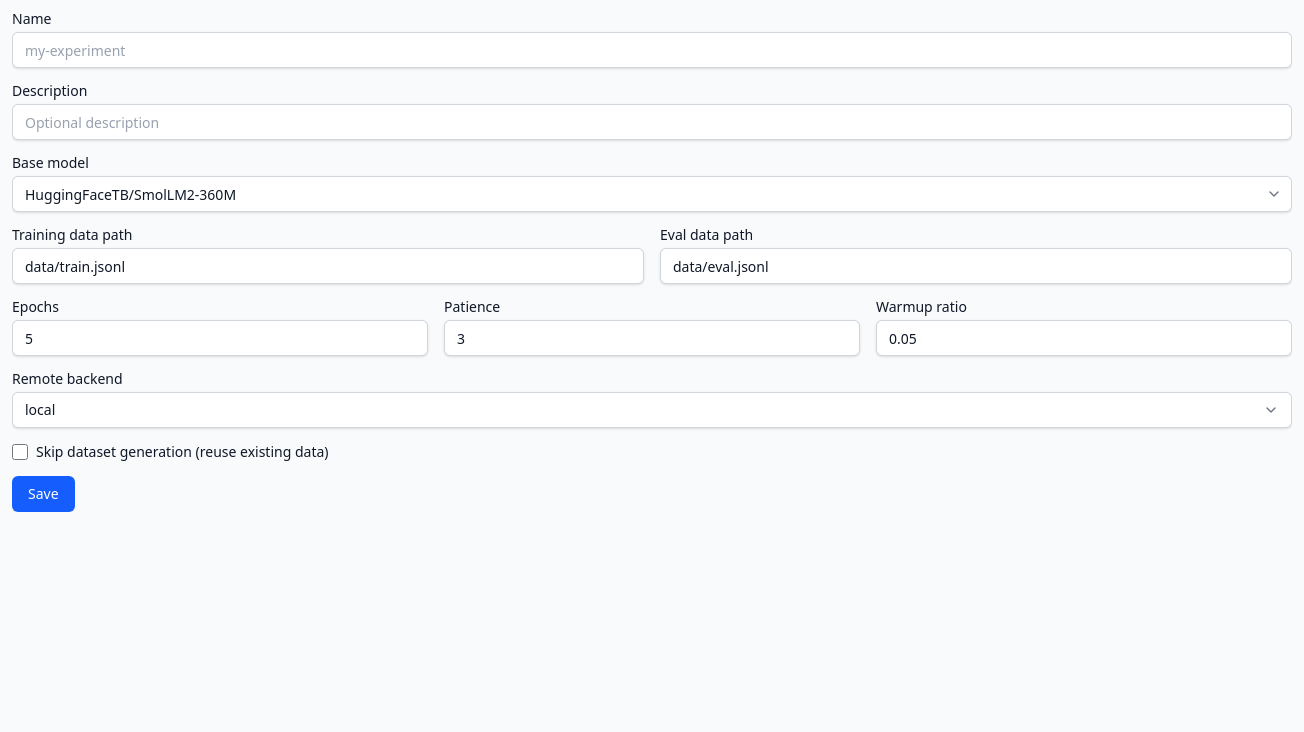
Test: ModelForm › shows validation error when name is empty
This screenshot has width=1304, height=732.
What coordinates should you click on to do the following:
click the button "Save"
I would click on:
 (43, 494)
Its box is [12, 476, 75, 512].
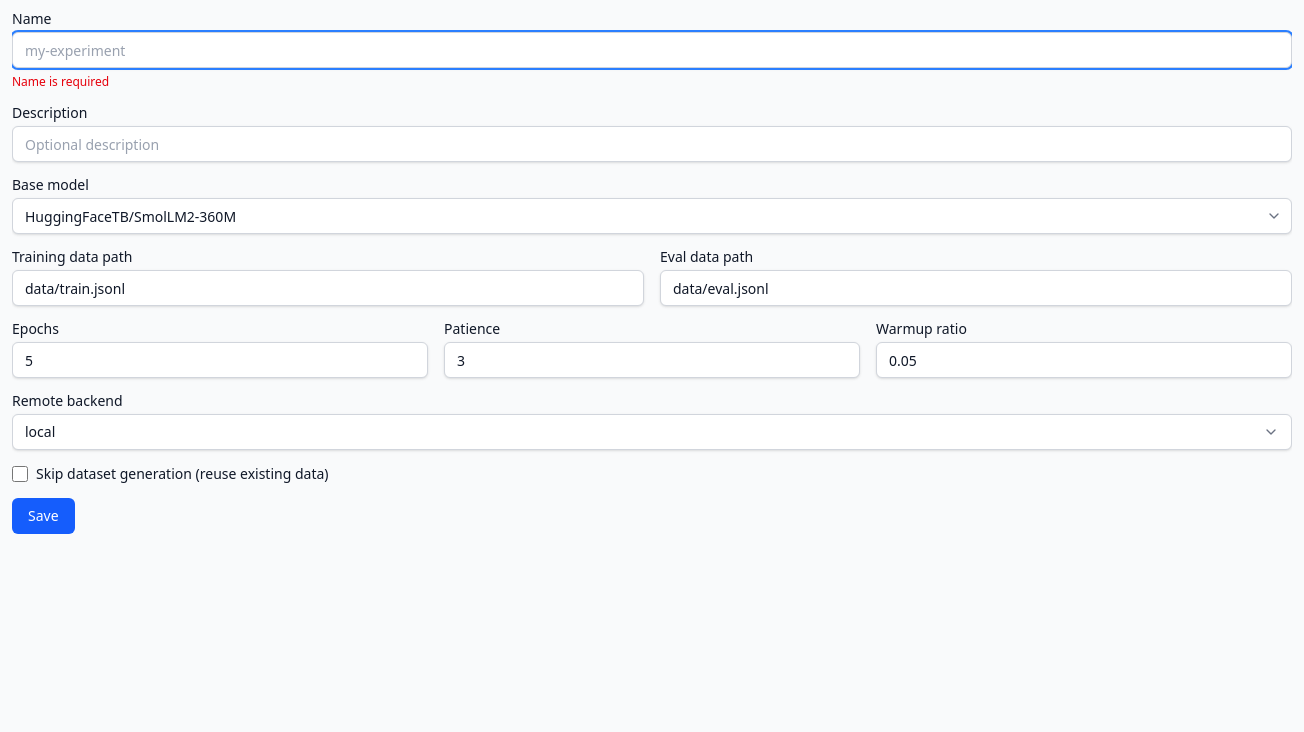
Result: the text "Name is required" is shown at [12, 73, 109, 90]
